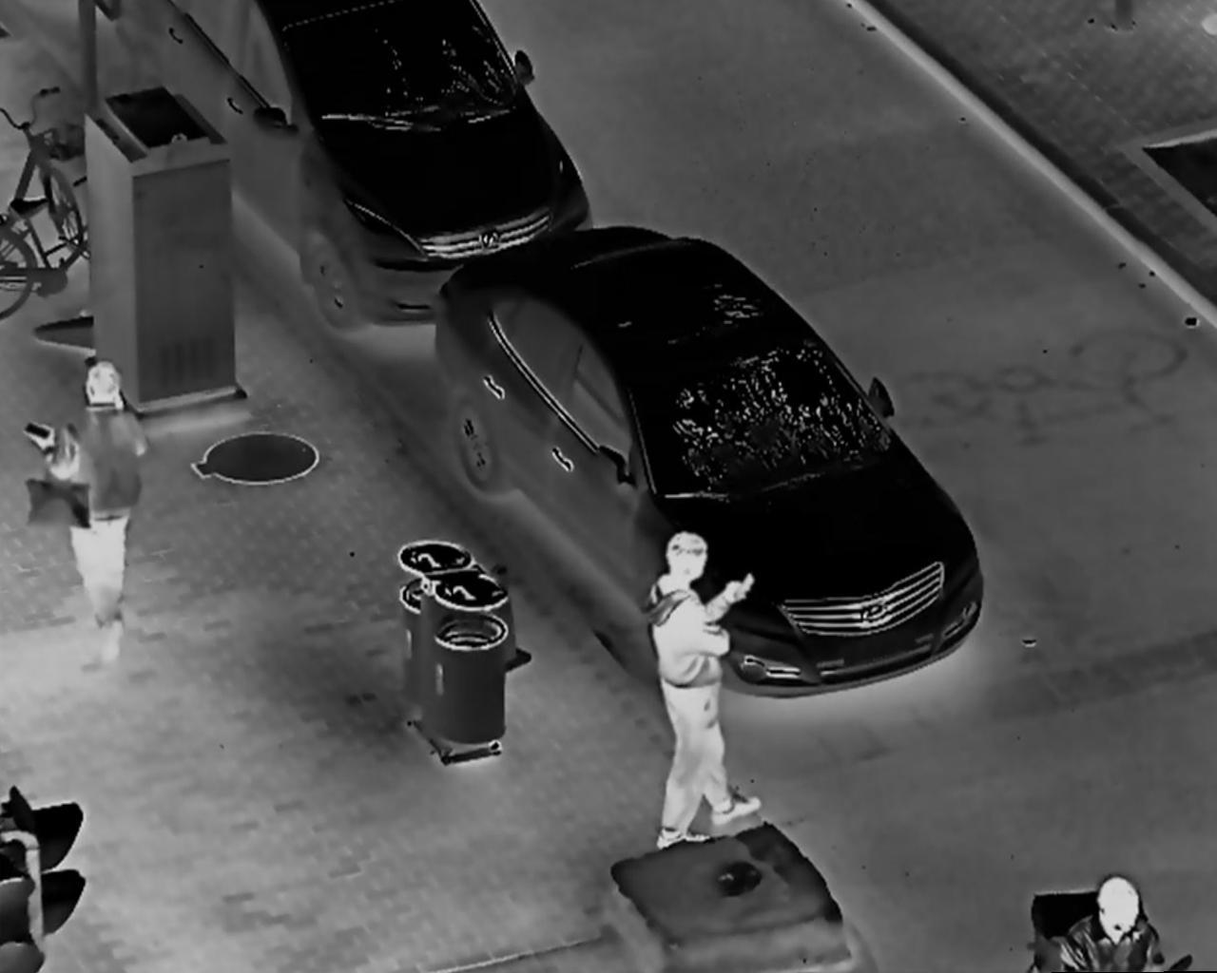person: (637, 526, 764, 844), (23, 358, 151, 668), (1050, 868, 1168, 973)
